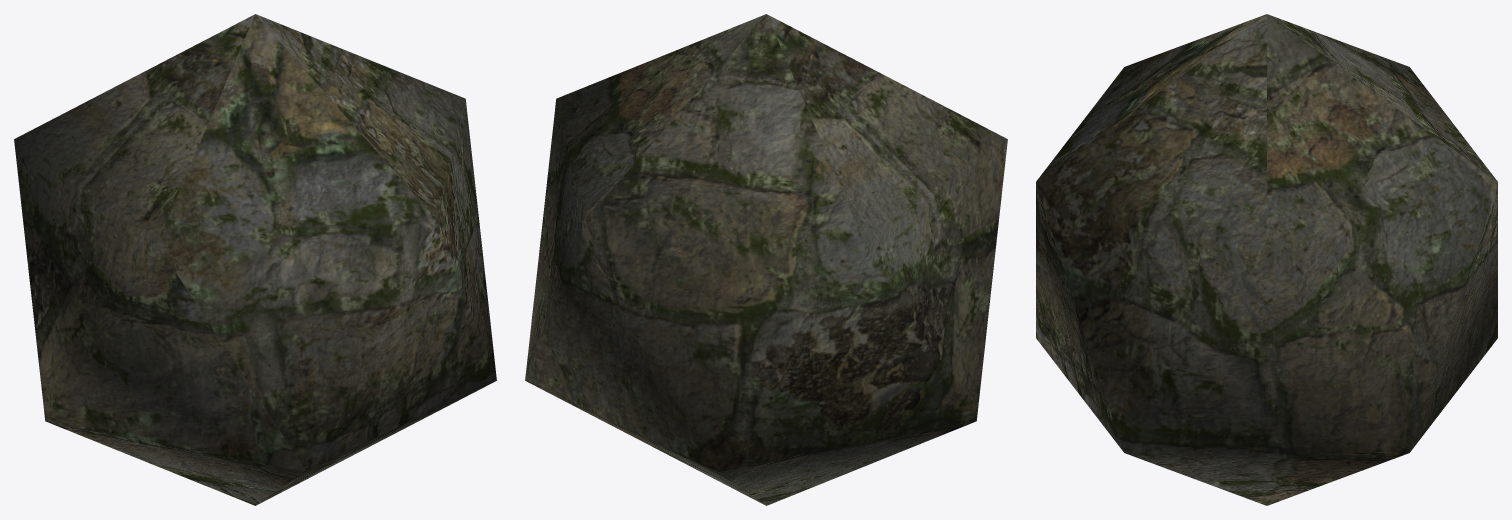
Rendered from Icosahedron.obj.
3 views of the same model, side by side, from view 1: azimuth 30°, elevation 25°; view 2: azimuth 150°, elevation 25°; view 3: azimuth 270°, elevation 25° (orthographic).
Parts seen in each view (by area): view 1: Icosphere_Icosphere.001; view 2: Icosphere_Icosphere.001; view 3: Icosphere_Icosphere.001.
Boxes of the visible parts, x1,y1,x2,y2 form: Icosphere_Icosphere.001: [14, 14, 496, 505]; Icosphere_Icosphere.001: [525, 14, 1007, 505]; Icosphere_Icosphere.001: [1036, 14, 1497, 505].
Bounding box in the file's own units: 1.79 × 2 × 1.7.
Materials: 1 (1 with a texture image).
